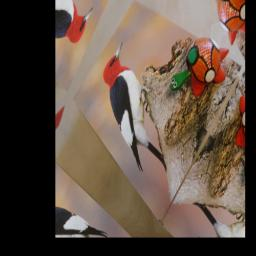Woodpecker: (83, 38, 192, 192)
